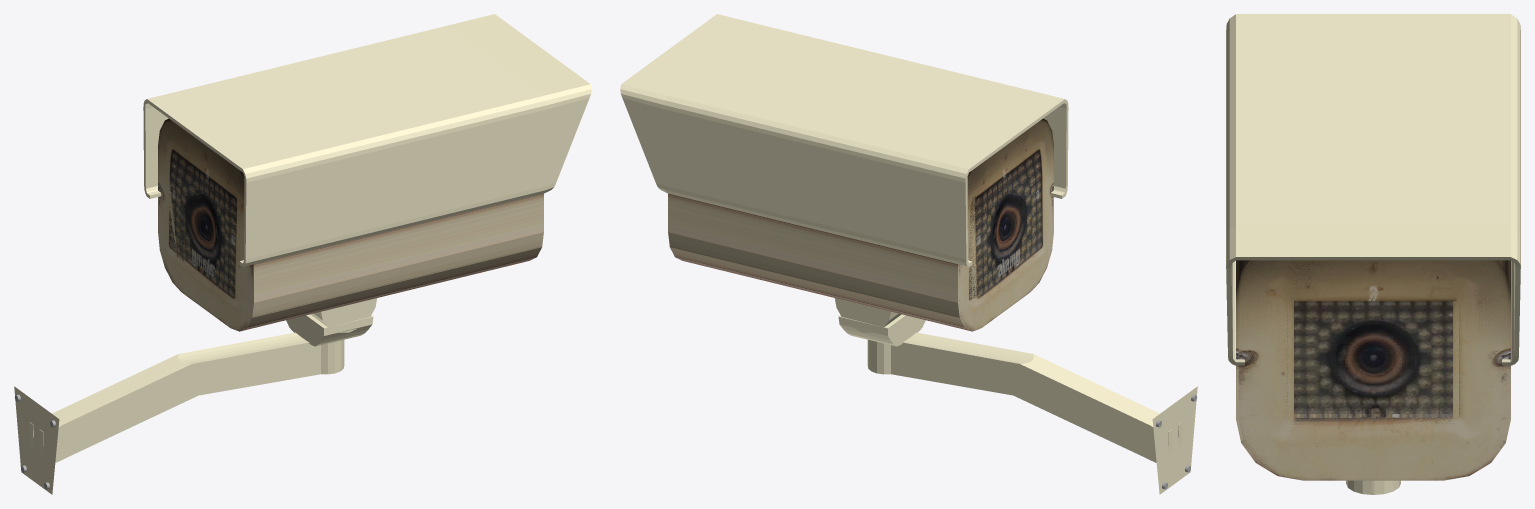
File: CCTVCam.fbx
The picture shows the model from 3 angles, left to right: view 1: azimuth 30°, elevation 25°; view 2: azimuth 150°, elevation 25°; view 3: azimuth 270°, elevation 25°; orthographic projection. The views are drawn at different scales.
Visible parts, largest first — view 1: Cylinder.024; view 2: Cylinder.024; view 3: Cylinder.024.
Part boxes in pixels (bbox=[...]): Cylinder.024: bbox=[14, 14, 591, 494]; Cylinder.024: bbox=[620, 14, 1197, 494]; Cylinder.024: bbox=[1226, 14, 1520, 494].
Bounding box in the file's own units: 180 × 105 × 63.15.
